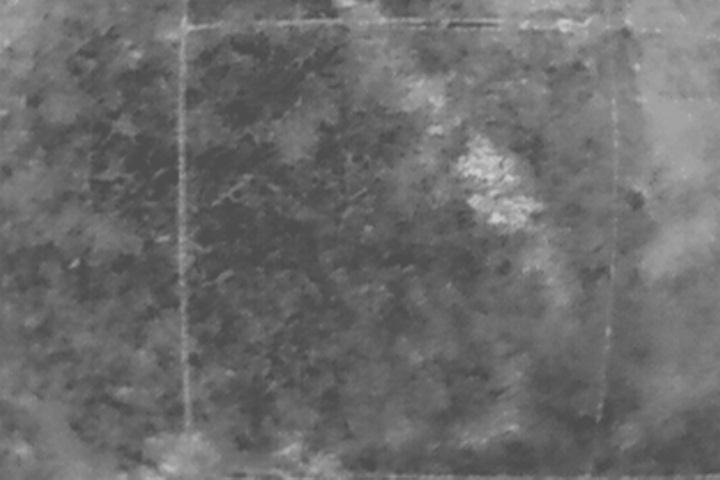landmine: (464, 149, 509, 177)
